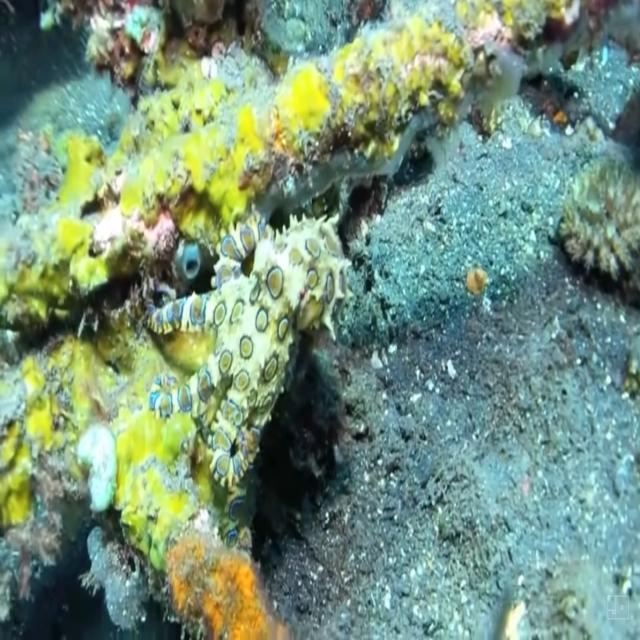blue_ringed_octopus: (146, 203, 353, 492)
